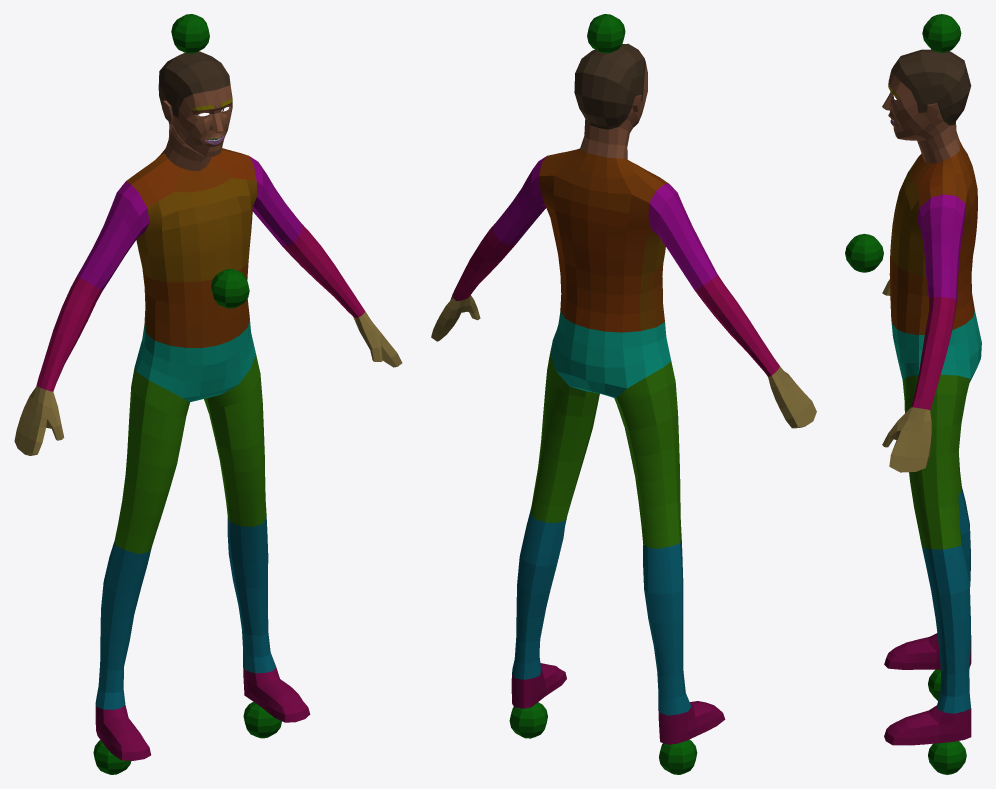
The model's file is LayeredClothingTemplate.glb.
The picture shows the model from 3 angles, left to right: view 1: azimuth 30°, elevation 25°; view 2: azimuth 150°, elevation 25°; view 3: azimuth 270°, elevation 25°; orthographic projection. The views are drawn at different scales.
Parts seen in each view (by area): view 1: YourClothingName__OuterCage, BodyFront_Att, Hat_Att, LeftFoot_Att, RightFoot_Att; view 2: YourClothingName__OuterCage, Hat_Att, RightFoot_Att, LeftFoot_Att; view 3: YourClothingName__OuterCage, Hat_Att, BodyFront_Att, LeftFoot_Att, RightFoot_Att.
Boxes of the visible parts, x1,y1,x2,y2 form: YourClothingName__OuterCage: (14, 51, 402, 760); BodyFront_Att: (211, 269, 249, 308); Hat_Att: (171, 14, 209, 53); LeftFoot_Att: (243, 702, 281, 738); RightFoot_Att: (93, 740, 131, 774); YourClothingName__OuterCage: (431, 43, 816, 744); Hat_Att: (587, 14, 625, 53); RightFoot_Att: (659, 739, 697, 774); LeftFoot_Att: (509, 702, 547, 738); YourClothingName__OuterCage: (882, 49, 981, 745); Hat_Att: (922, 14, 961, 52); BodyFront_Att: (845, 234, 883, 272); LeftFoot_Att: (928, 741, 966, 774); RightFoot_Att: (928, 669, 940, 700).
Bounding box in the file's own units: 3.23 × 6.12 × 1.05.
